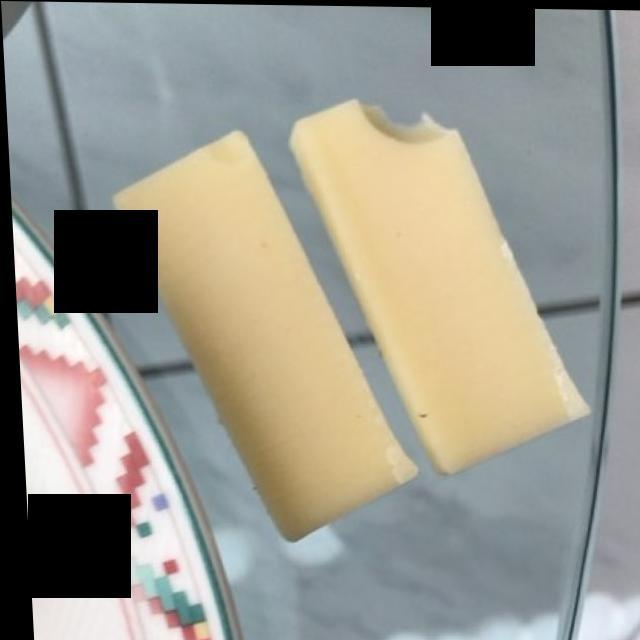cheese: (110, 97, 591, 540)
